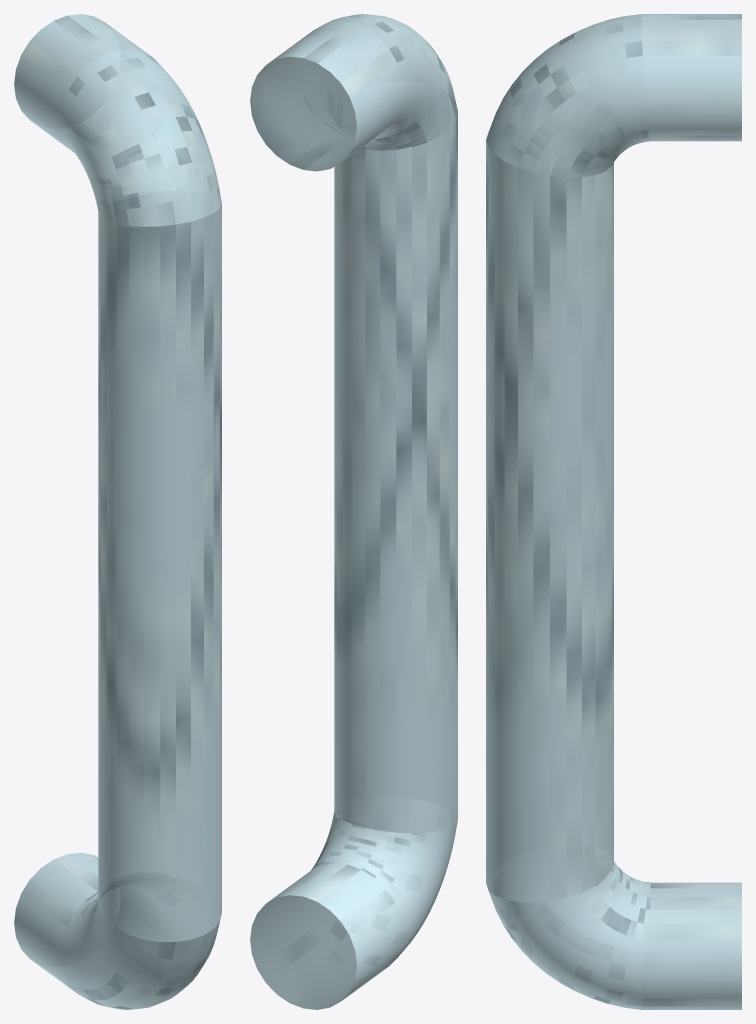
File: original-6.obj
3 views of the same model, side by side, from view 1: azimuth 30°, elevation 25°; view 2: azimuth 150°, elevation 25°; view 3: azimuth 270°, elevation 25° (orthographic). The views are drawn at different scales.
Visible parts, largest first — view 1: Group6/mesh4/mesh4-geometry#mesh4-geometry; view 2: Group6/mesh4/mesh4-geometry#mesh4-geometry; view 3: Group6/mesh4/mesh4-geometry#mesh4-geometry.
Part boxes in pixels (left/top/right/bottom): Group6/mesh4/mesh4-geometry#mesh4-geometry: left=14, top=14, right=221, bottom=1009; Group6/mesh4/mesh4-geometry#mesh4-geometry: left=250, top=14, right=457, bottom=1009; Group6/mesh4/mesh4-geometry#mesh4-geometry: left=486, top=14, right=741, bottom=1009.
Size of the model in its own units: 0.0176 by 0.1496 by 0.0352.
